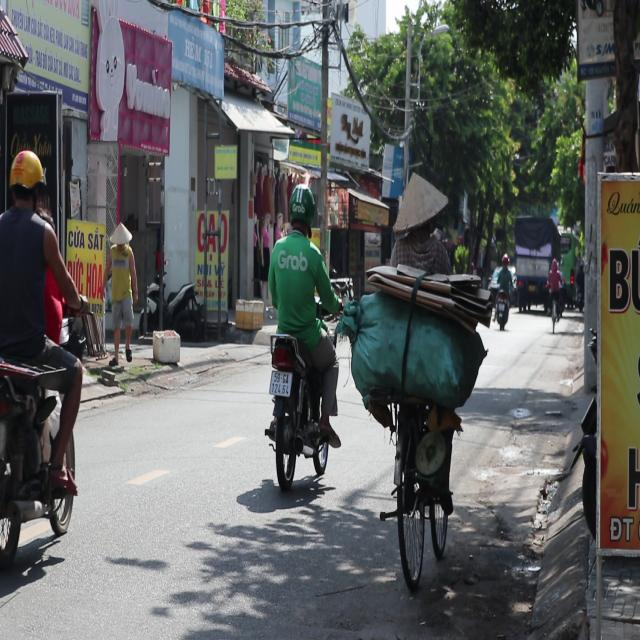helmet: (6, 148, 45, 210), (286, 182, 315, 233)
licenseplate: (0, 142, 87, 585), (261, 181, 342, 493)
nohelmet: (269, 370, 291, 395)
